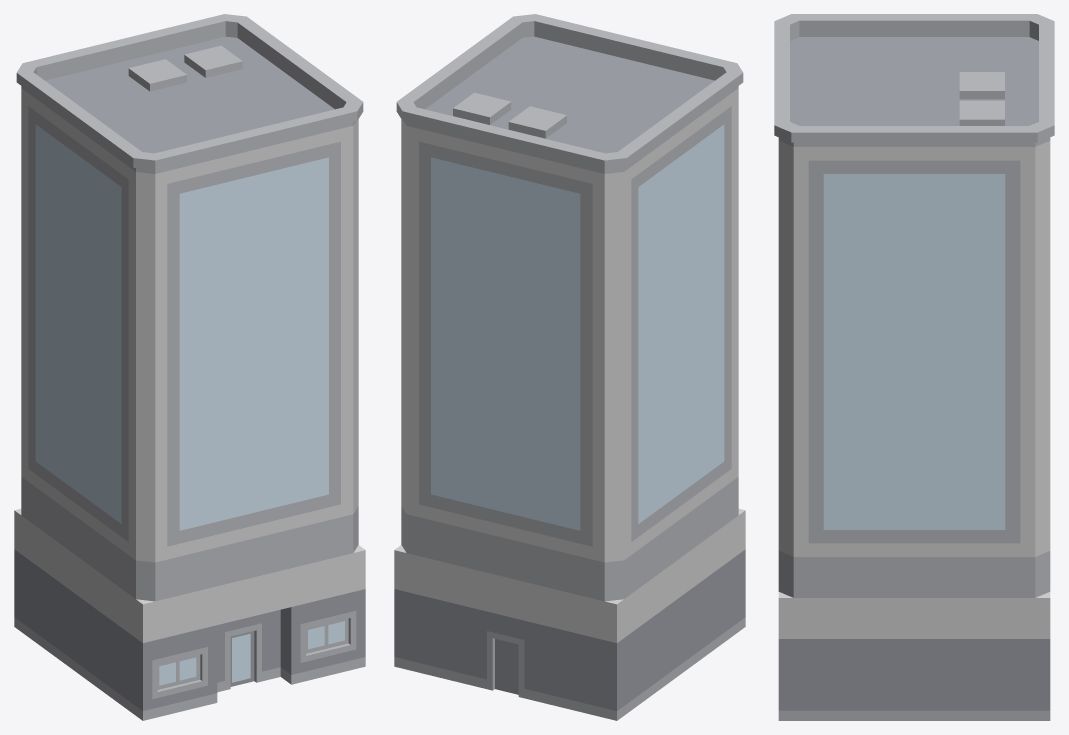
File: skyscraperA.gltf
3 views of the same model, side by side, from view 1: azimuth 30°, elevation 25°; view 2: azimuth 150°, elevation 25°; view 3: azimuth 270°, elevation 25° (orthographic). The views are drawn at different scales.
Visible parts, largest first — view 1: skyscraperA; view 2: skyscraperA; view 3: skyscraperA.
Part boxes in pixels (box(x1,y1,x2,y2)): skyscraperA: box(14, 14, 365, 720); skyscraperA: box(394, 14, 745, 720); skyscraperA: box(774, 14, 1054, 720).
Size of the model in its own units: 1.24 by 2.88 by 1.24.
